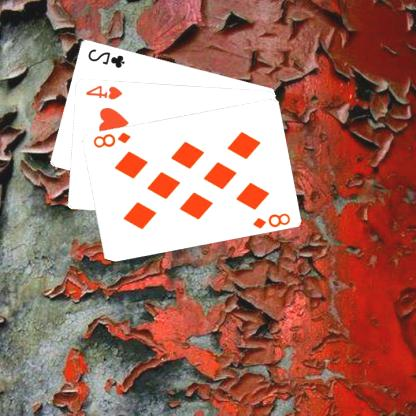2C: (86, 46, 127, 69)
4H: (85, 82, 125, 101)
8D: (251, 210, 293, 230), (92, 129, 133, 149)
